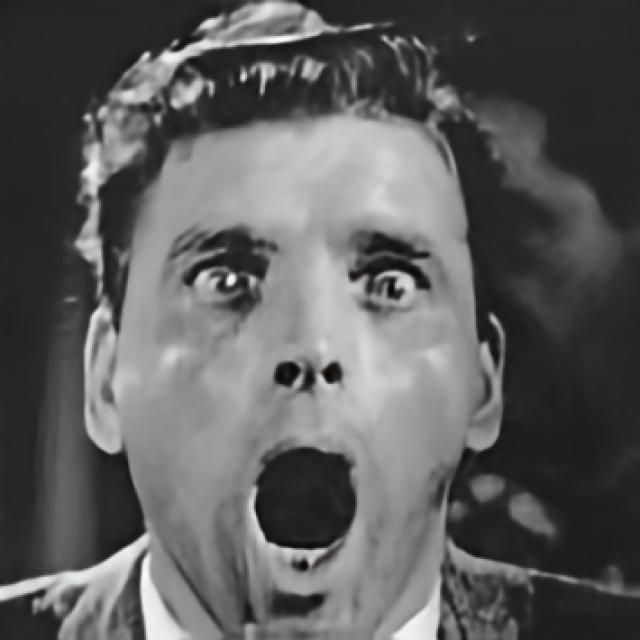fear: (122, 112, 474, 640)
